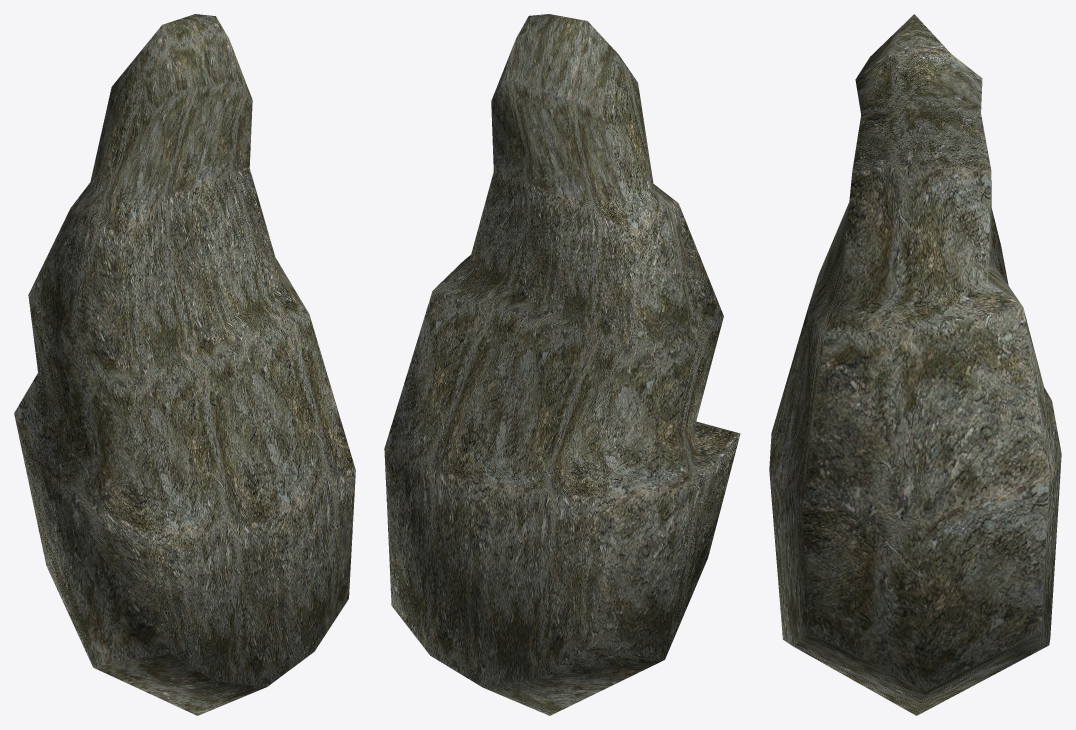
Rendered from rock_dant_a4_l1.fbx.
The picture shows the model from 3 angles, left to right: view 1: azimuth 30°, elevation 25°; view 2: azimuth 150°, elevation 25°; view 3: azimuth 270°, elevation 25°; orthographic projection. The views are drawn at different scales.
Parts seen in each view (by area): view 1: mesh_node; view 2: mesh_node; view 3: mesh_node.
Boxes of the visible parts, bbox=[...] form: mesh_node: bbox=[14, 14, 355, 715]; mesh_node: bbox=[384, 14, 740, 715]; mesh_node: bbox=[769, 14, 1061, 715].
Bounding box in the file's own units: 2.16 × 5.52 × 2.14.
Materials: 1 (1 with a texture image).
